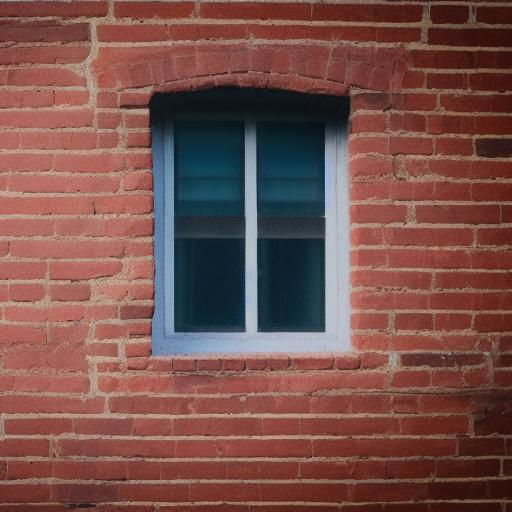Window: (121, 51, 397, 391)
